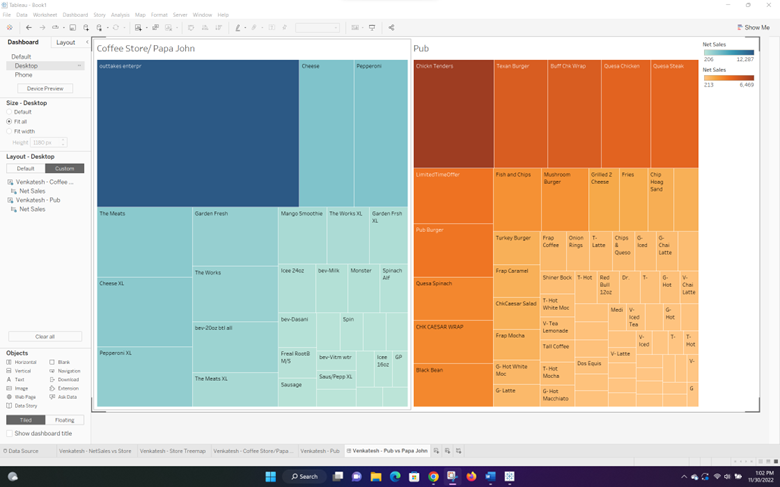

Layout of this report page (visuals, bound fields, positions):
{"tool":"tableau","page":{"name":"Venkatesh - Pub vs Papa John","canvas":[1000,800],"ordinal":0},"visuals":[{"type":"worksheet","title":"Venkatesh - Coffee Store/Papa John","mark":"Automatic","box":[8,8,409,784]},{"type":"worksheet","title":"Venkatesh - Pub","mark":"Automatic","box":[417,8,415,784]},{"type":"legend","title":"Venkatesh - Coffee Store/Papa John","param":"[federated.0zoynbq0vc40z019mb9310c7d64n].[sum:Net_Sales:qk]","box":[832,8,160,73]},{"type":"legend","title":"Venkatesh - Pub","param":"[federated.0zoynbq0vc40z019mb9310c7d64n].[sum:Net_Sales:qk]","box":[832,81,160,73]}]}

Visuals, with their boxes on the page's 1000x800 design canvas (x1, y1, x2, y2). These are canvas units, not pixel positions in the 780x487 screenshot, which may show the page scaled, cropped or inside an application window:
"Venkatesh - Coffee Store/Papa John" worksheet: crop(8, 8, 417, 792)
"Venkatesh - Pub" worksheet: crop(417, 8, 832, 792)
"Venkatesh - Coffee Store/Papa John" legend: crop(832, 8, 992, 81)
"Venkatesh - Pub" legend: crop(832, 81, 992, 154)
